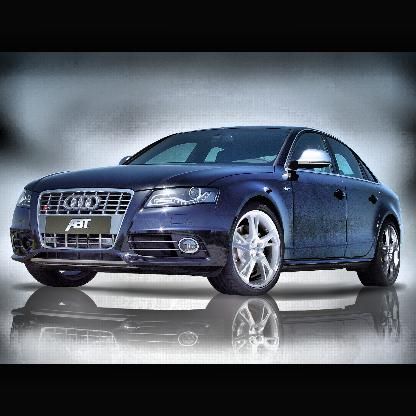Audi S4 Sedan 2012: (13, 127, 403, 298)
